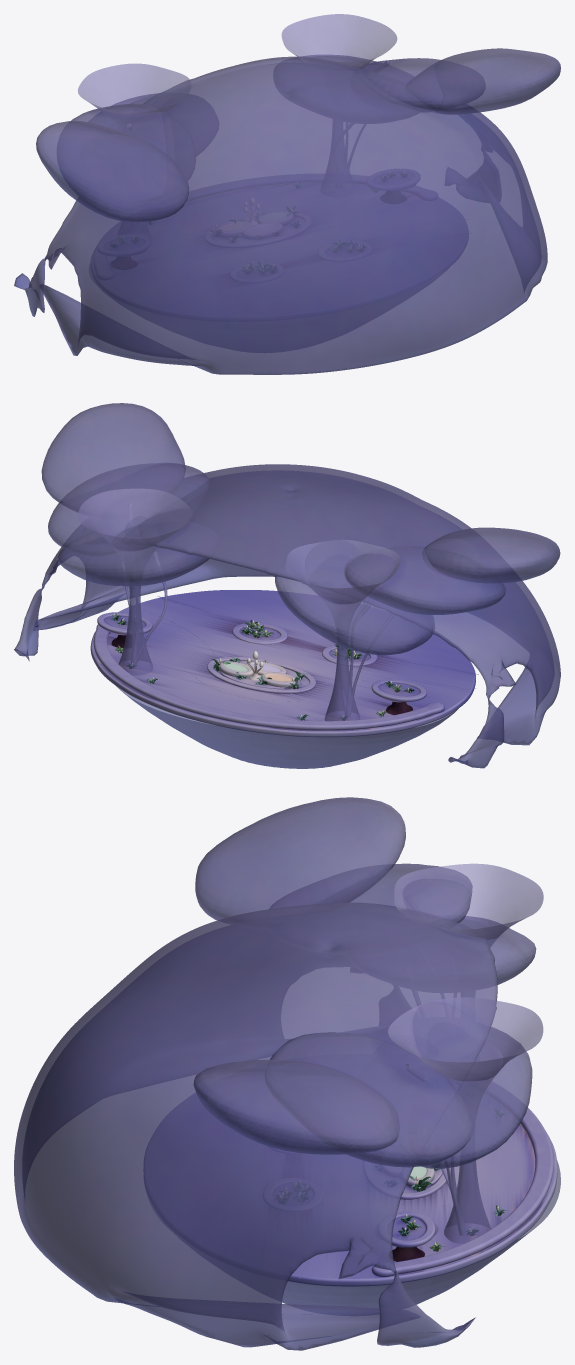
File: overlook.glb
The picture shows the model from 3 angles, top to bottom: view 1: azimuth 30°, elevation 25°; view 2: azimuth 150°, elevation 25°; view 3: azimuth 270°, elevation 25°; orthographic projection. The views are drawn at different scales.
Visible parts, largest first — view 1: Jellyfish_InnerBell, Terrace_Floor, Corner_CanopyLobe_L_2, Corner_CanopyLobe_R_2, Corner_CanopyLobe_L_1, Corner_CanopyLobe_R_1, Corner_Pillar_R, Corner_Pillar_L, Terrace_FrontParapet, Corner_CanopyLobe_R_0, NavGarden_Ring, Corner_CanopyLobe_L_0; view 2: Jellyfish_InnerBell, Terrace_Floor, Corner_CanopyLobe_R_2, Corner_CanopyLobe_R_1, Corner_CanopyLobe_L_0, Corner_CanopyLobe_L_1, Corner_Pillar_R, Terrace_Underside, Corner_CanopyLobe_L_2, Corner_Pillar_L, Corner_CanopyLobe_R_0, Terrace_FrontParapet (+4 smaller); view 3: Jellyfish_InnerBell, Terrace_Floor, Corner_CanopyLobe_R_1, Corner_CanopyLobe_L_2, Corner_CanopyLobe_R_2, Corner_CanopyLobe_R_0, Corner_Pillar_R, Corner_Pillar_L, Corner_CanopyLobe_L_1, Terrace_FrontParapet, Terrace_Underside, Corner_CanopyLobe_L_0 (+3 smaller).
Part boxes in pixels (left/top/right/bottom): Jellyfish_InnerBell: left=14, top=56, right=547, bottom=374; Terrace_Floor: left=91, top=183, right=468, bottom=321; Corner_CanopyLobe_L_2: left=36, top=121, right=188, bottom=222; Corner_CanopyLobe_R_2: left=406, top=48, right=560, bottom=114; Corner_CanopyLobe_L_1: left=71, top=103, right=173, bottom=202; Corner_CanopyLobe_R_1: left=354, top=58, right=485, bottom=111; Corner_Pillar_R: left=281, top=14, right=397, bottom=70; Corner_Pillar_L: left=78, top=63, right=191, bottom=124; Terrace_FrontParapet: left=94, top=174, right=437, bottom=279; Corner_CanopyLobe_R_0: left=290, top=55, right=414, bottom=82; NavGarden_Ring: left=205, top=213, right=311, bottom=247; Corner_CanopyLobe_L_0: left=108, top=93, right=168, bottom=130; Jellyfish_InnerBell: left=14, top=464, right=560, bottom=768; Terrace_Floor: left=90, top=590, right=475, bottom=737; Corner_CanopyLobe_R_2: left=41, top=403, right=184, bottom=512; Corner_CanopyLobe_R_1: left=48, top=463, right=209, bottom=556; Corner_CanopyLobe_L_0: left=275, top=570, right=434, bottom=655; Corner_CanopyLobe_L_1: left=344, top=546, right=505, bottom=614; Corner_Pillar_R: left=78, top=488, right=192, bottom=675; Terrace_Underside: left=115, top=685, right=457, bottom=768; Corner_CanopyLobe_L_2: left=422, top=527, right=560, bottom=583; Corner_Pillar_L: left=285, top=539, right=400, bottom=721; Corner_CanopyLobe_R_0: left=58, top=524, right=209, bottom=586; Terrace_FrontParapet: left=93, top=624, right=444, bottom=730; Jellyfish_InnerBell: left=14, top=902, right=497, bottom=1350; Terrace_Floor: left=144, top=1093, right=557, bottom=1286; Corner_CanopyLobe_R_1: left=265, top=1032, right=473, bottom=1167; Corner_CanopyLobe_L_2: left=195, top=797, right=405, bottom=924; Corner_CanopyLobe_R_2: left=193, top=1060, right=399, bottom=1154; Corner_CanopyLobe_R_0: left=408, top=1027, right=532, bottom=1168; Corner_Pillar_R: left=388, top=997, right=543, bottom=1243; Corner_Pillar_L: left=394, top=863, right=543, bottom=947; Corner_CanopyLobe_L_1: left=269, top=863, right=472, bottom=926; Terrace_FrontParapet: left=371, top=1082, right=553, bottom=1276; Terrace_Underside: left=282, top=1160, right=560, bottom=1307; Corner_CanopyLobe_L_0: left=443, top=916, right=536, bottom=984.
Bounding box in the file's own units: 74.42 × 37.73 × 53.53.
